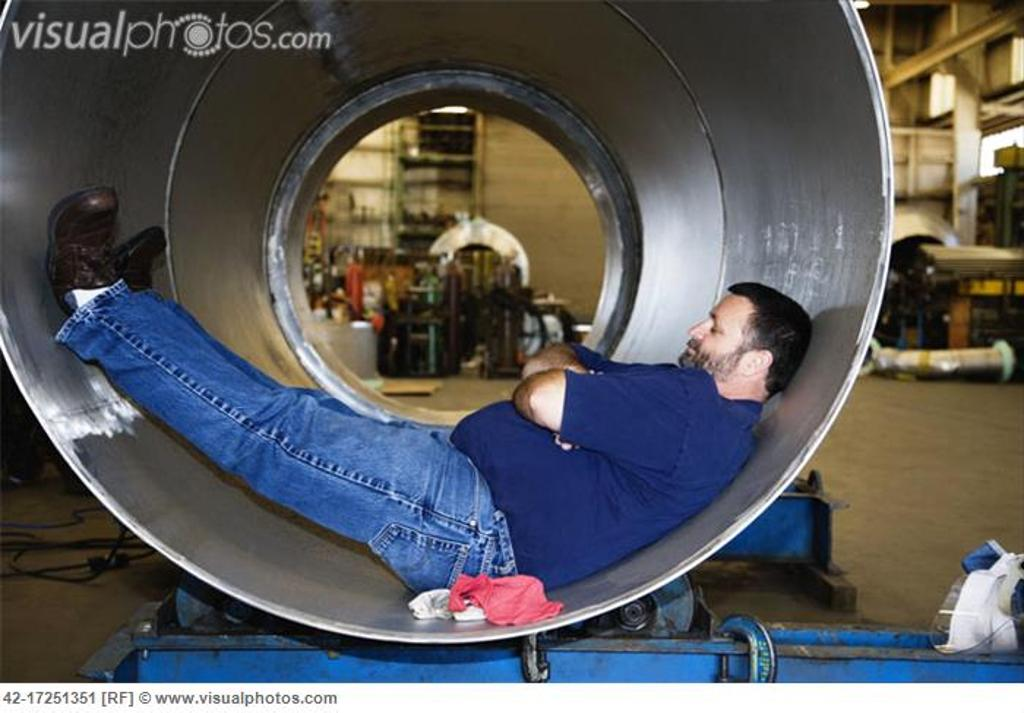face: (678, 296, 760, 370)
